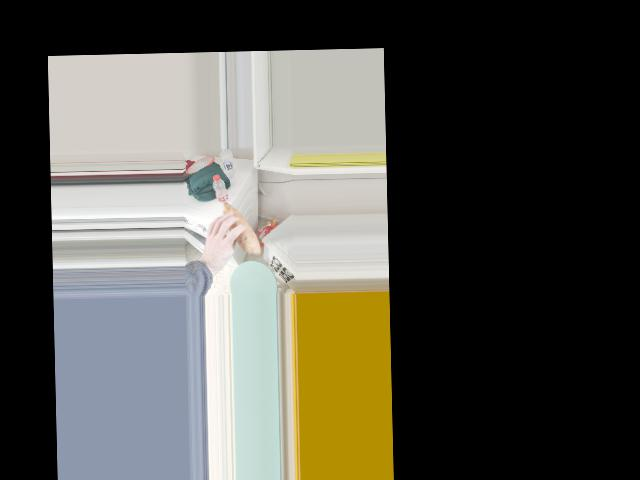sweet_potato: (216, 203, 260, 248)
